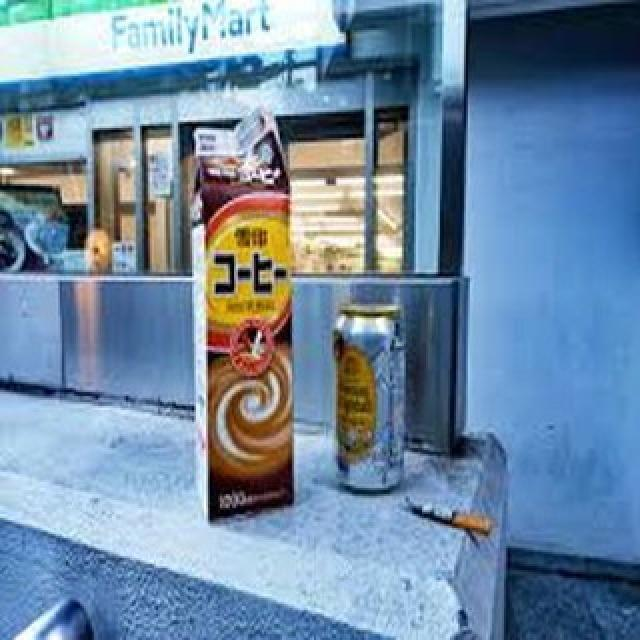can: (332, 296, 410, 496)
